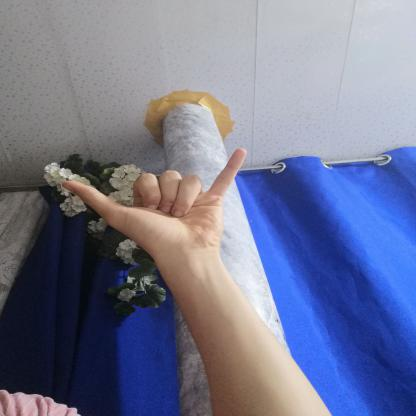YA: (49, 139, 255, 268)
